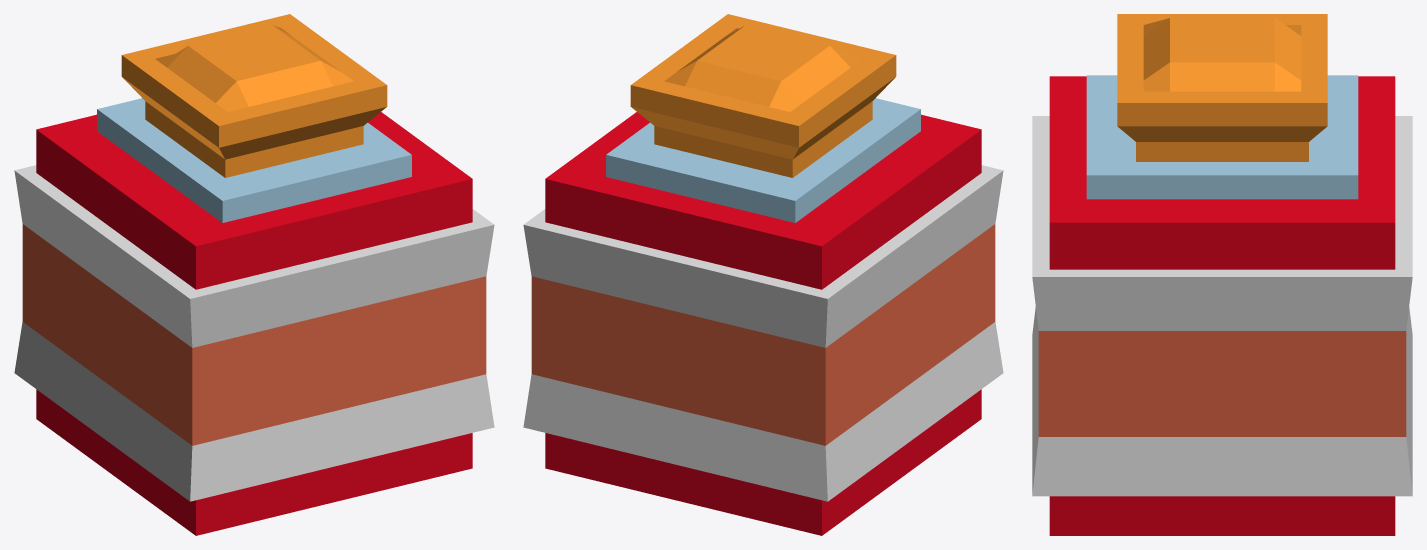
The model's file is superjump.fbx.
The picture shows the model from 3 angles, left to right: view 1: azimuth 30°, elevation 25°; view 2: azimuth 150°, elevation 25°; view 3: azimuth 270°, elevation 25°; orthographic projection. The views are drawn at different scales.
Visible parts, largest first — view 1: Cube.003, Cube.001, Cube.002, Cube; view 2: Cube.003, Cube.001, Cube.002, Cube; view 3: Cube.003, Cube.001, Cube.002, Cube.
Boxes of the visible parts, x1,y1,x2,y2 form: Cube.003: [14, 165, 494, 501]; Cube.001: [36, 112, 472, 535]; Cube.002: [121, 14, 387, 177]; Cube: [97, 98, 411, 222]; Cube.003: [523, 165, 1003, 501]; Cube.001: [545, 112, 981, 535]; Cube.002: [630, 14, 896, 177]; Cube: [606, 98, 920, 222]; Cube.003: [1032, 116, 1412, 496]; Cube.001: [1049, 76, 1395, 535]; Cube.002: [1117, 14, 1327, 161]; Cube: [1086, 75, 1358, 199].
Size of the model in its own units: 110 by 135 by 110.
